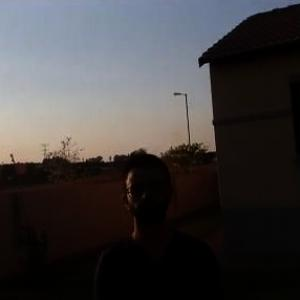follow: (91, 144, 234, 299)
